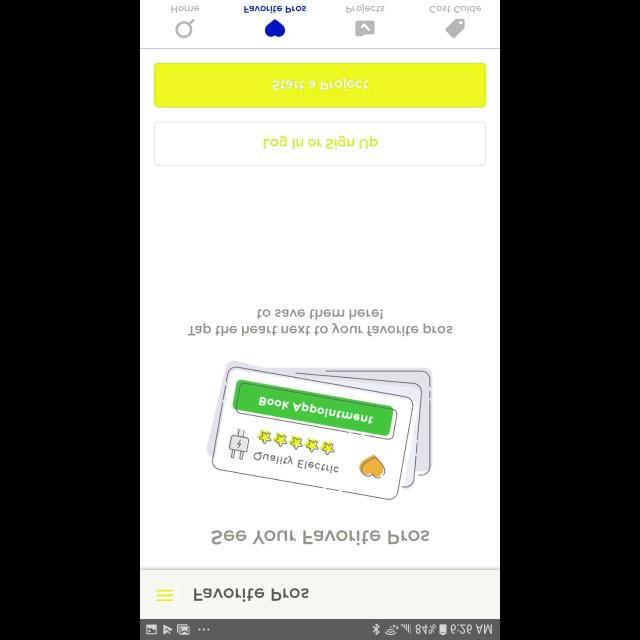icon: (176, 18, 196, 38), (445, 18, 465, 38), (265, 19, 285, 37), (356, 20, 374, 36), (156, 589, 174, 601)
image: (207, 360, 433, 500)
text: (188, 308, 452, 336), (211, 530, 429, 546), (194, 587, 310, 601), (244, 6, 306, 14), (430, 6, 482, 14), (346, 3, 386, 13), (171, 6, 199, 12)
textbutton: (154, 62, 486, 108), (154, 122, 486, 166)
uppertaskbar: (140, 618, 500, 640)
